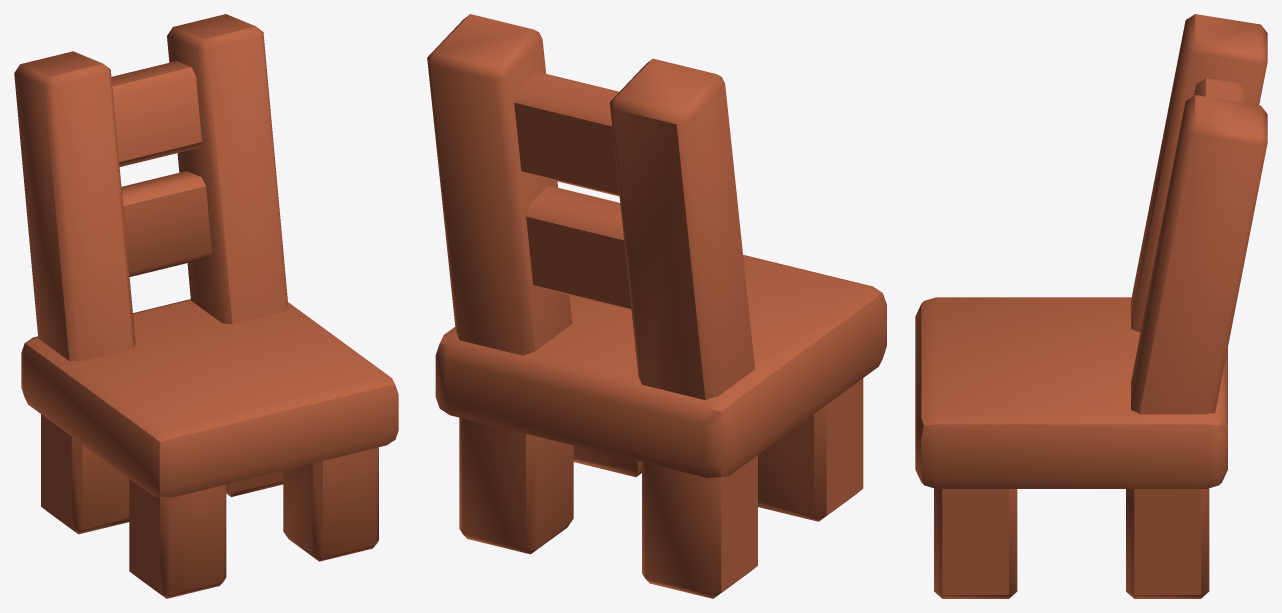
Rendered from Chair - Lvl 1.fbx.
The picture shows the model from 3 angles, left to right: view 1: azimuth 30°, elevation 25°; view 2: azimuth 150°, elevation 25°; view 3: azimuth 270°, elevation 25°; orthographic projection. The views are drawn at different scales.
Parts seen in each view (by area): view 1: chair_A; view 2: chair_A; view 3: chair_A.
Boxes of the visible parts, x1,y1,x2,y2 form: chair_A: [14, 14, 398, 598]; chair_A: [427, 14, 886, 598]; chair_A: [915, 14, 1267, 598].
Size of the model in its own units: 27.28 by 30.74 by 45.78.
